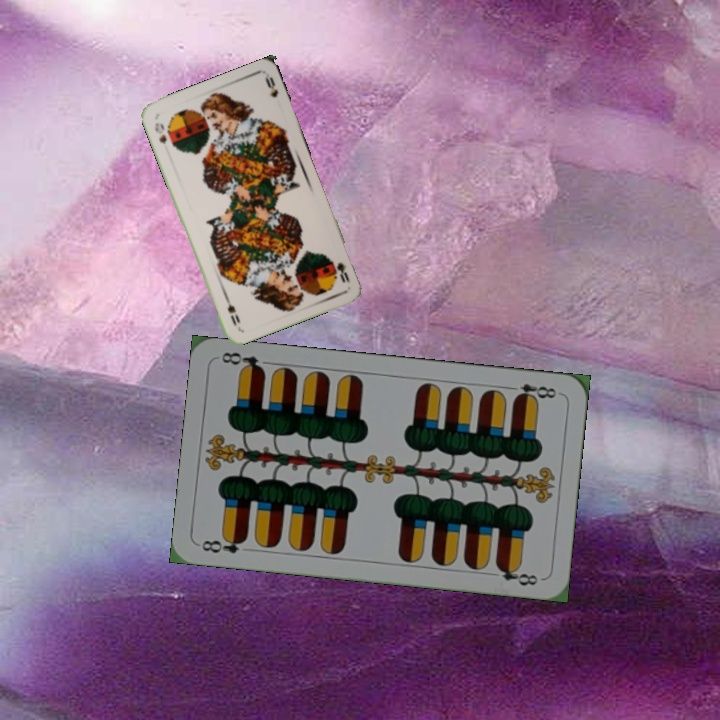E8: (503, 380, 559, 404), (198, 532, 250, 556)
SO: (151, 119, 176, 150), (327, 255, 352, 286)
